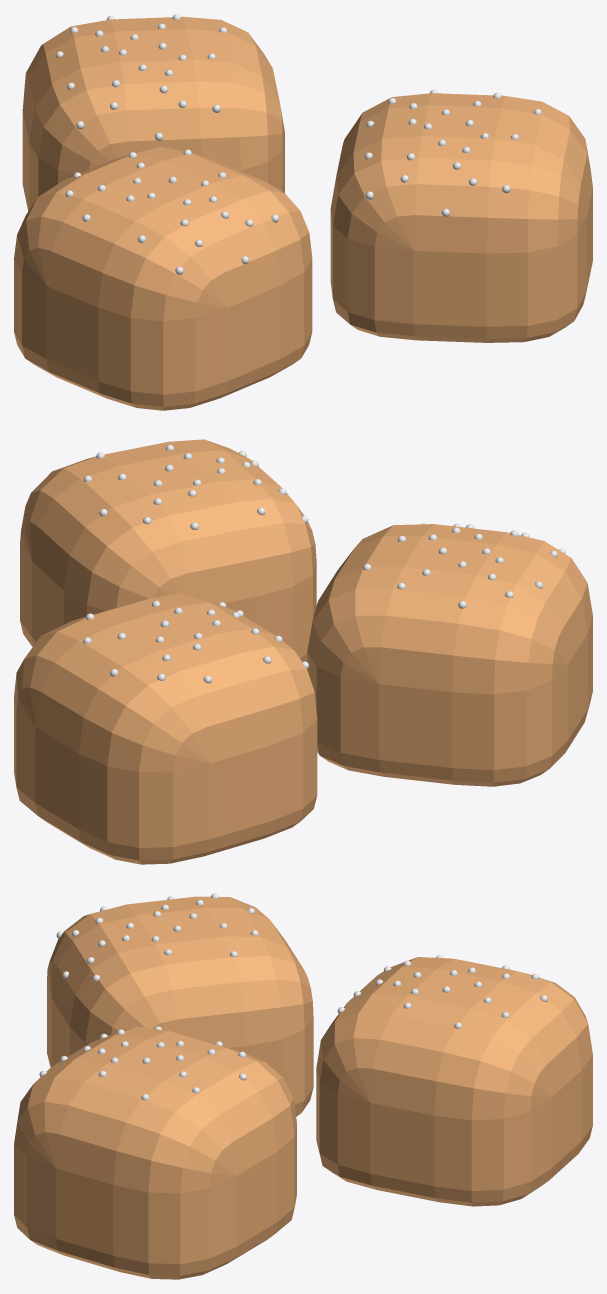
File: Dinner roll.gltf
The picture shows the model from 3 angles, top to bottom: view 1: azimuth 30°, elevation 25°; view 2: azimuth 150°, elevation 25°; view 3: azimuth 270°, elevation 25°; orthographic projection. The views are drawn at different scales.
Visible parts, largest first — view 1: node-0; view 2: node-0; view 3: node-0.
Boxes of the visible parts, left/top/right/bottom form: node-0: left=14, top=14, right=592, bottom=410; node-0: left=14, top=439, right=592, bottom=864; node-0: left=14, top=893, right=592, bottom=1279.
Size of the model in its own units: 1660263 by 530430 by 1621610.
